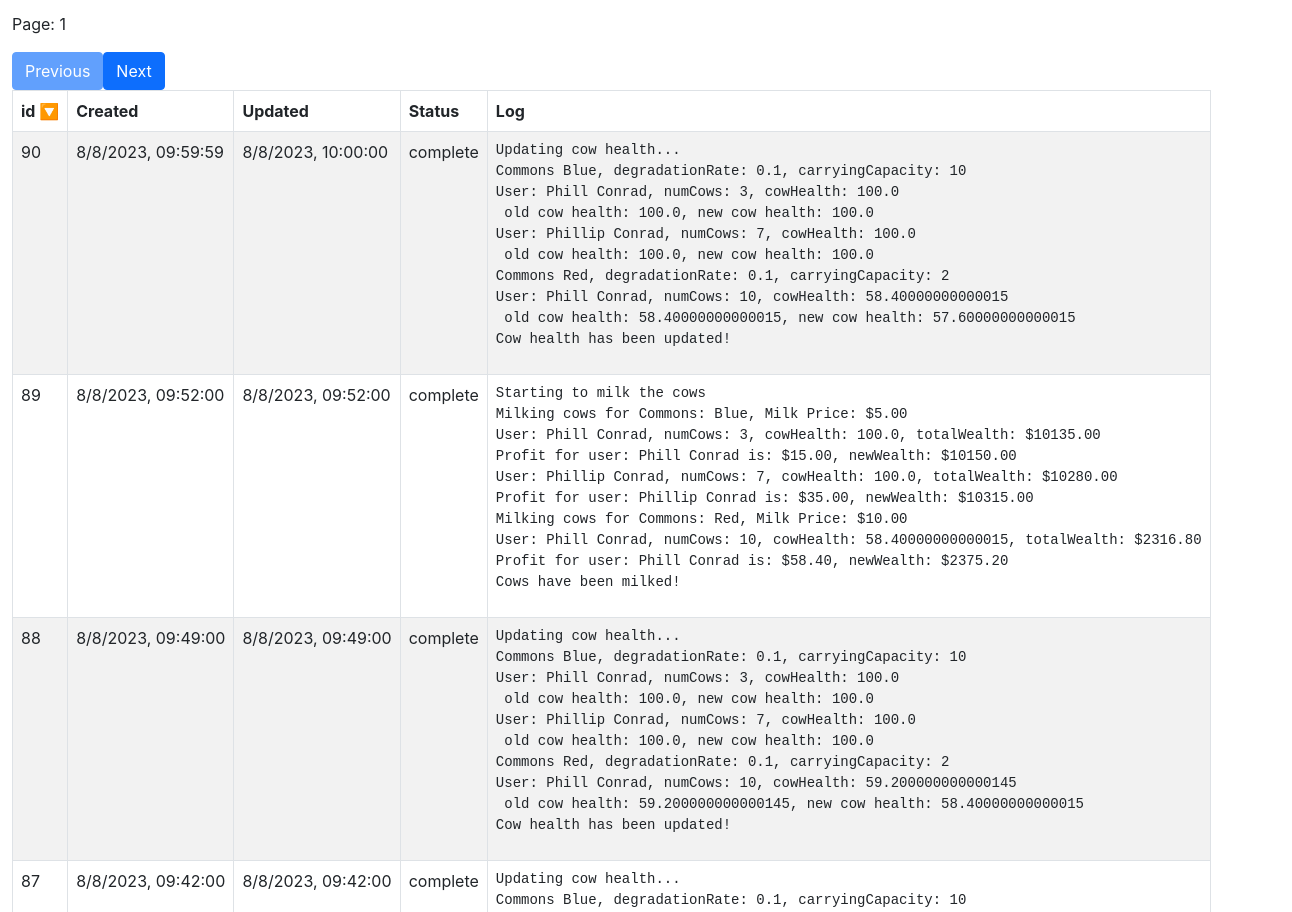
Scenario: PagedJobsTable tests › renders correct content with multiple pages
Expected: the column heading "id" is shown, [21,101,35,121]
Expected: the column heading "Created" is shown, [68,90,234,132]
Click the button "Next" at (134, 71), box [103,52,165,90]
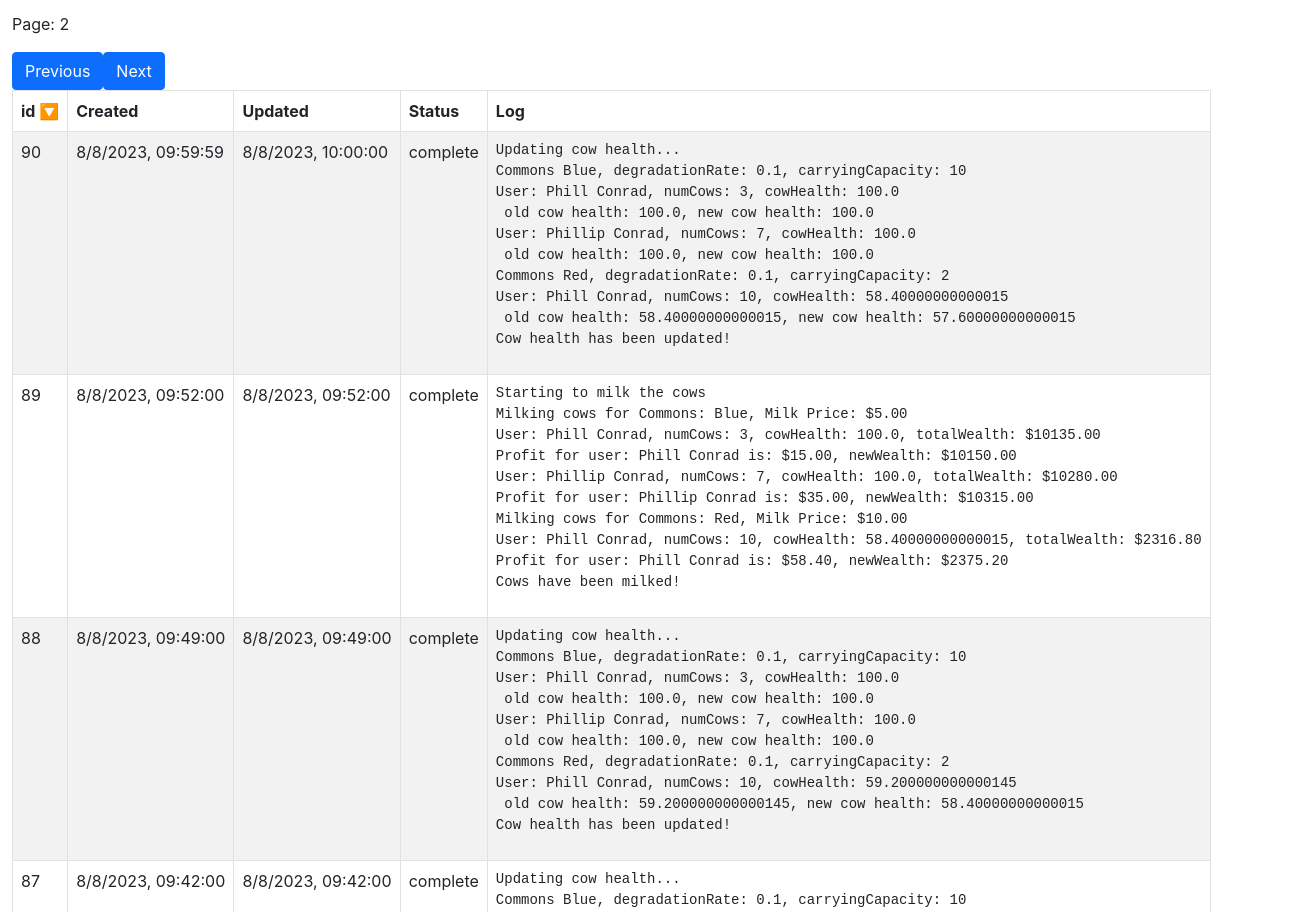
Now the text "Page: 2" is shown, box [12,14,69,34]
Click the button "Previous" at (58, 71), box [12,52,103,90]
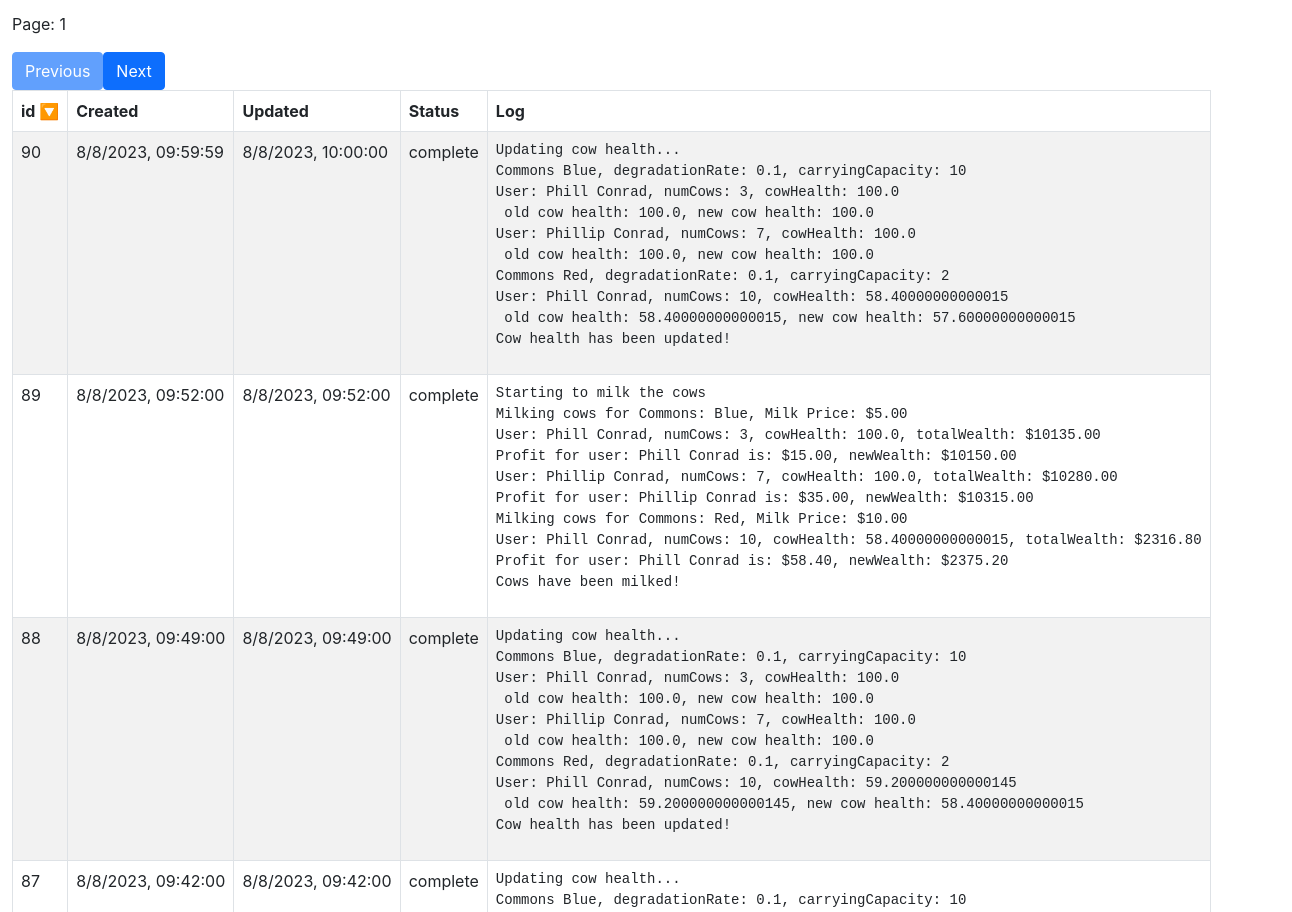
Now the text "Page: 1" is shown, box [12,14,66,34]
Click the button "Next" at (134, 71), box [103,52,165,90]
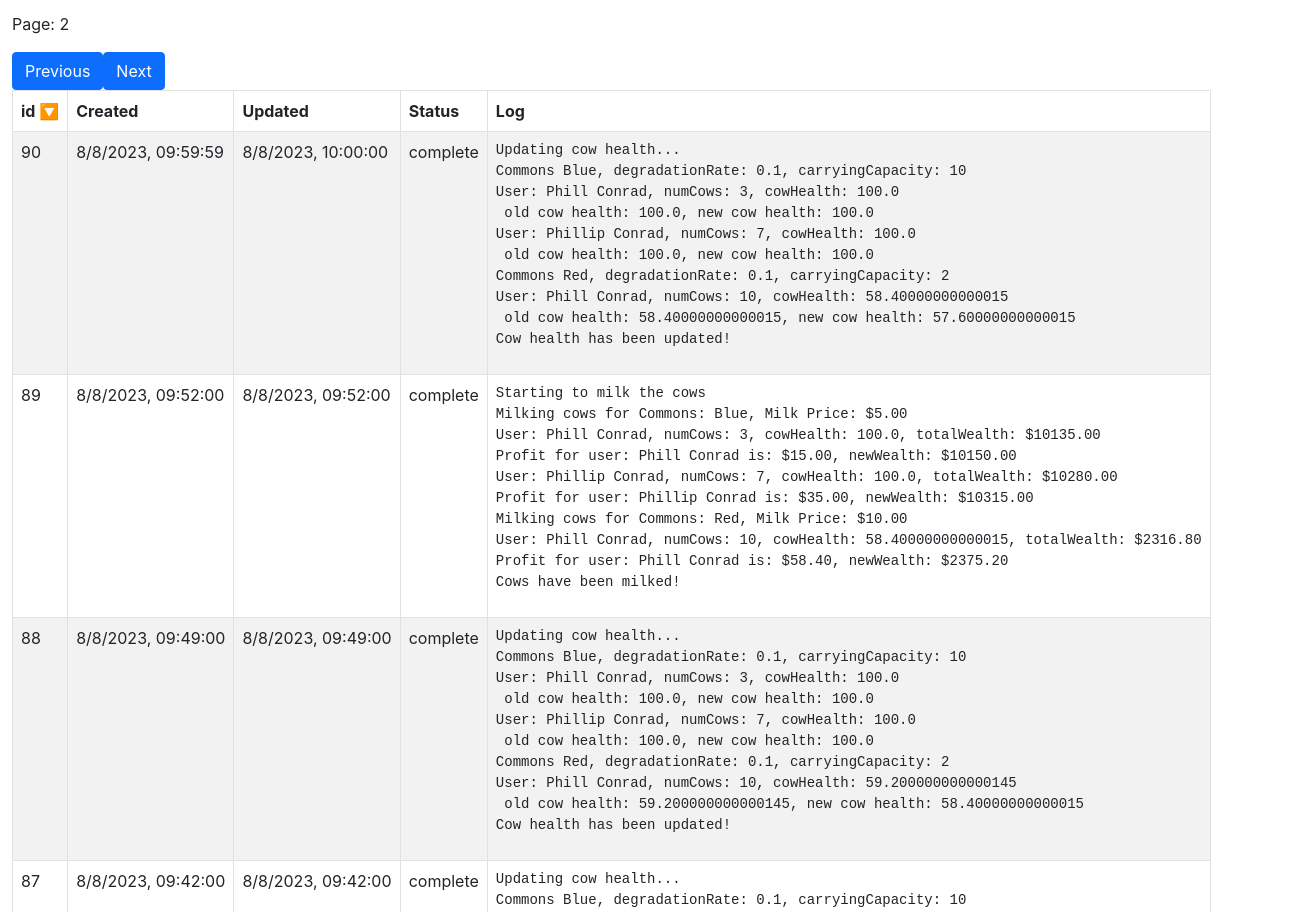
Now the text "Page: 2" is shown, box [12,14,69,34]
Click the button "Next" at (134, 71), box [103,52,165,90]
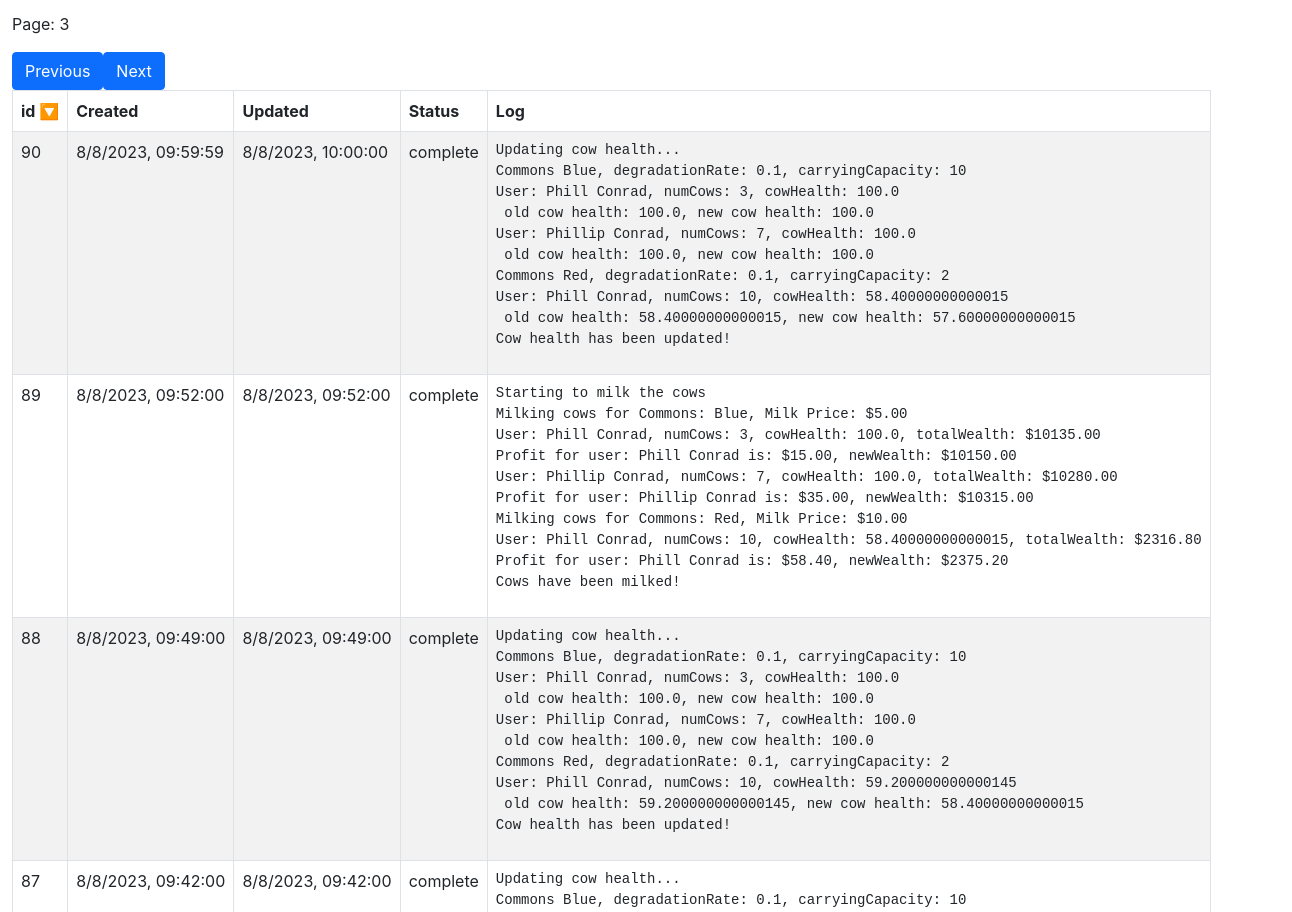
Now the text "Page: 3" is shown, box [12,14,69,34]
Click the button "Next" at (134, 71), box [103,52,165,90]
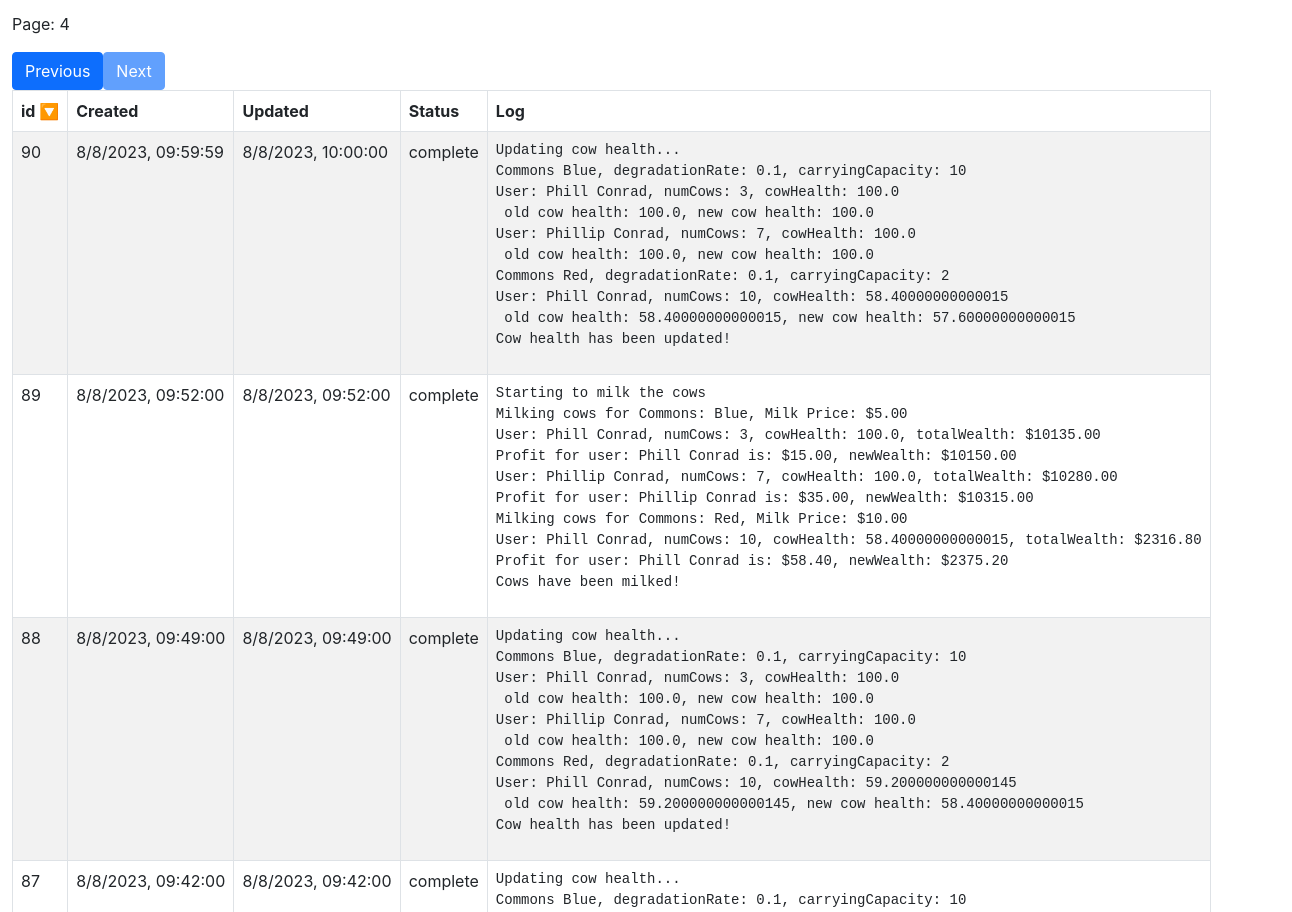
Now the text "Page: 4" is shown, box [12,14,70,34]
